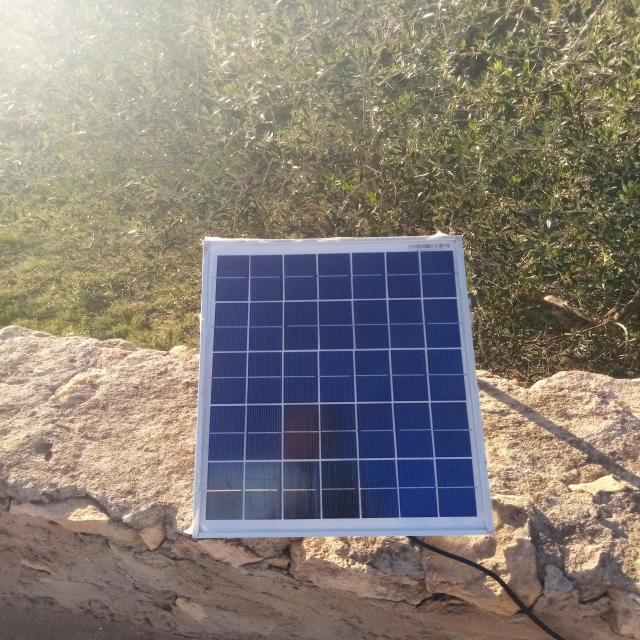no faulty: (195, 237, 490, 540)
